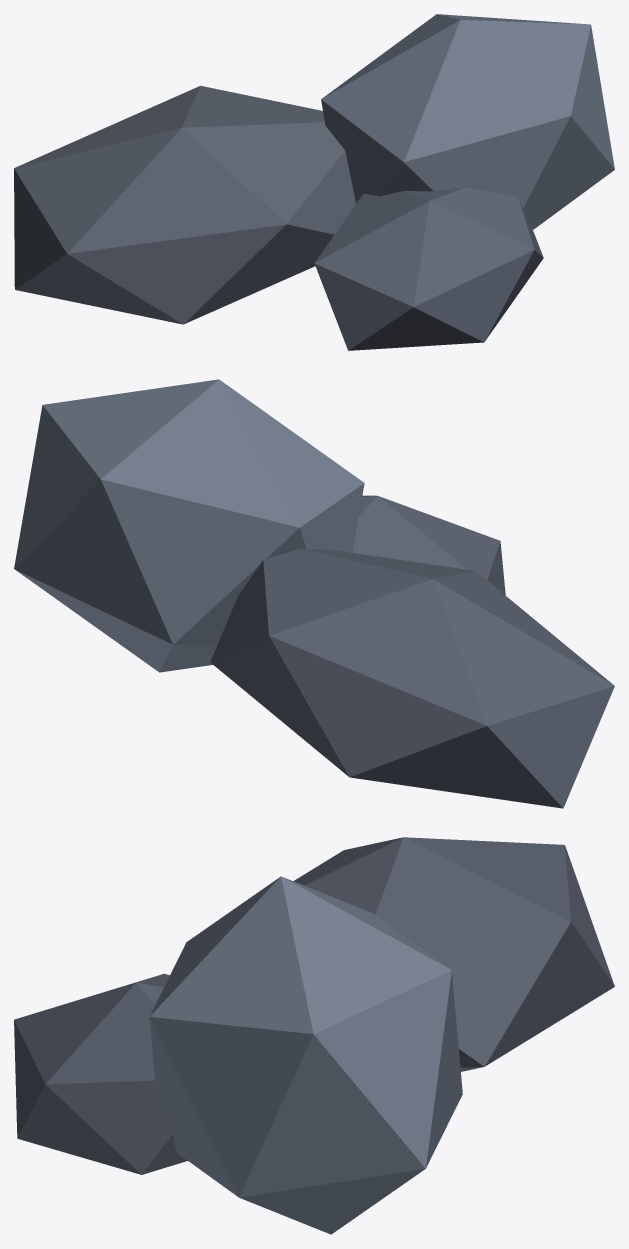
The model's file is EXTW_WestCluster_02.glb.
The picture shows the model from 3 angles, top to bottom: view 1: azimuth 30°, elevation 25°; view 2: azimuth 150°, elevation 25°; view 3: azimuth 270°, elevation 25°; orthographic projection. The views are drawn at different scales.
Visible parts, largest first — view 1: EXTW_WestCluster_02; view 2: EXTW_WestCluster_02; view 3: EXTW_WestCluster_02.
Boxes of the visible parts, x1,y1,x2,y2 form: EXTW_WestCluster_02: [14, 14, 614, 350]; EXTW_WestCluster_02: [14, 379, 614, 808]; EXTW_WestCluster_02: [14, 837, 614, 1234].
Size of the model in its own units: 1.86 by 0.8697 by 1.4.
